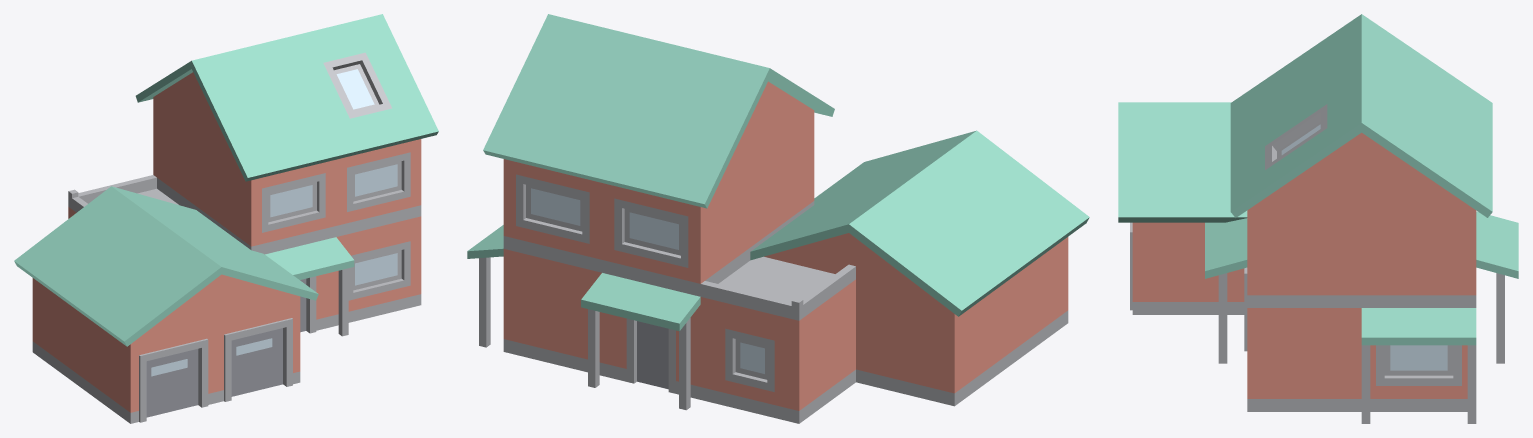
Rendered from house_type10.glb.
3 renders of one model, left to right at view 1: azimuth 30°, elevation 25°; view 2: azimuth 150°, elevation 25°; view 3: azimuth 270°, elevation 25°, orthographic. The views are drawn at different scales.
Visible parts, largest first — view 1: house_type10; view 2: house_type10; view 3: house_type10.
Boxes of the visible parts, x1,y1,x2,y2 form: house_type10: (14,14,438,423); house_type10: (467,14,1089,423); house_type10: (1118,14,1518,423).
Size of the model in its own units: 17.16 by 10.81 by 13.28.
